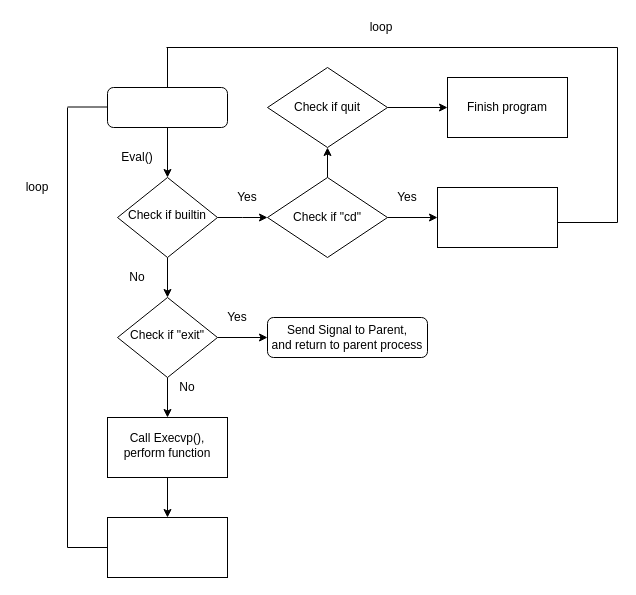
This 636x595 diagram has some shape labels left out. Here are the shapes that lost their labels. From the top down, the centre of each, then its label:
At (x=167, y=107): "Get cmdline".
At (x=497, y=217): "ChangeDirectory()".
At (x=167, y=547): "Return".
